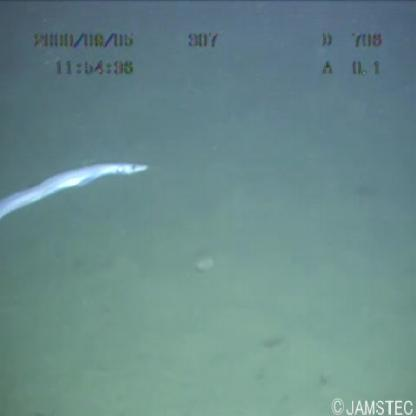Bio: (0, 158, 154, 233)
